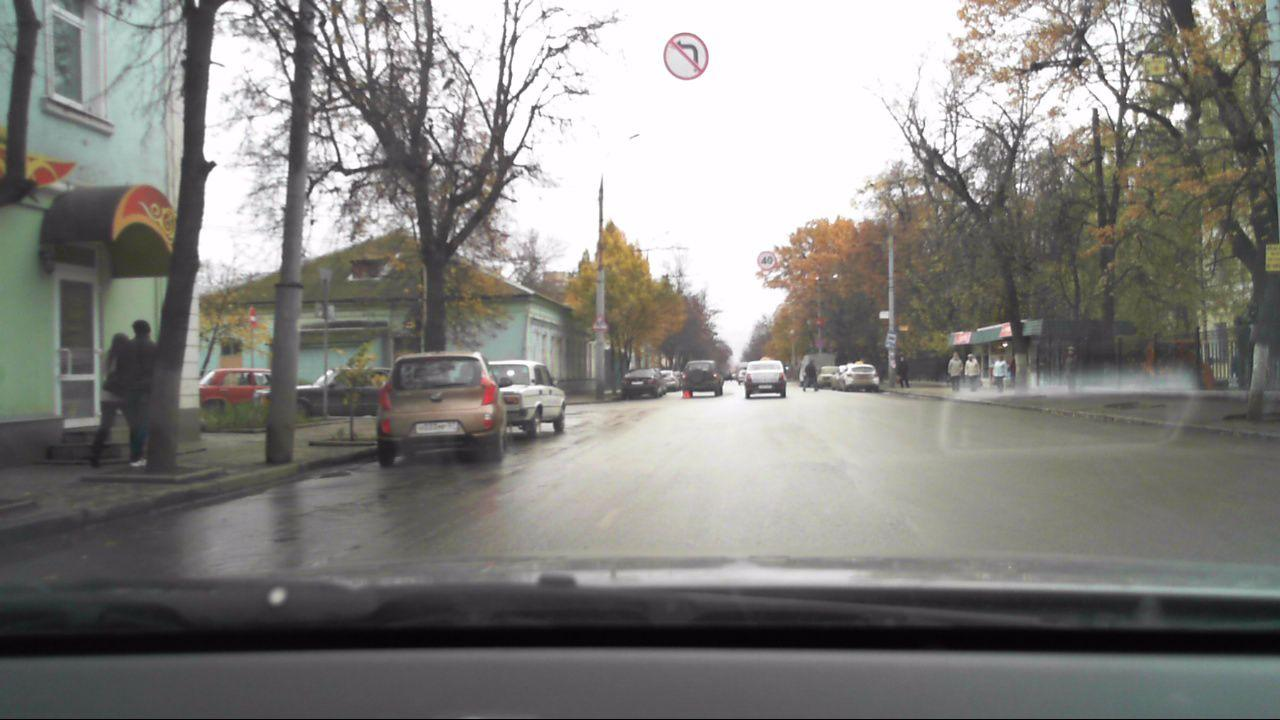3_18_2: (661, 33, 710, 81)
3_24: (756, 251, 779, 273)
